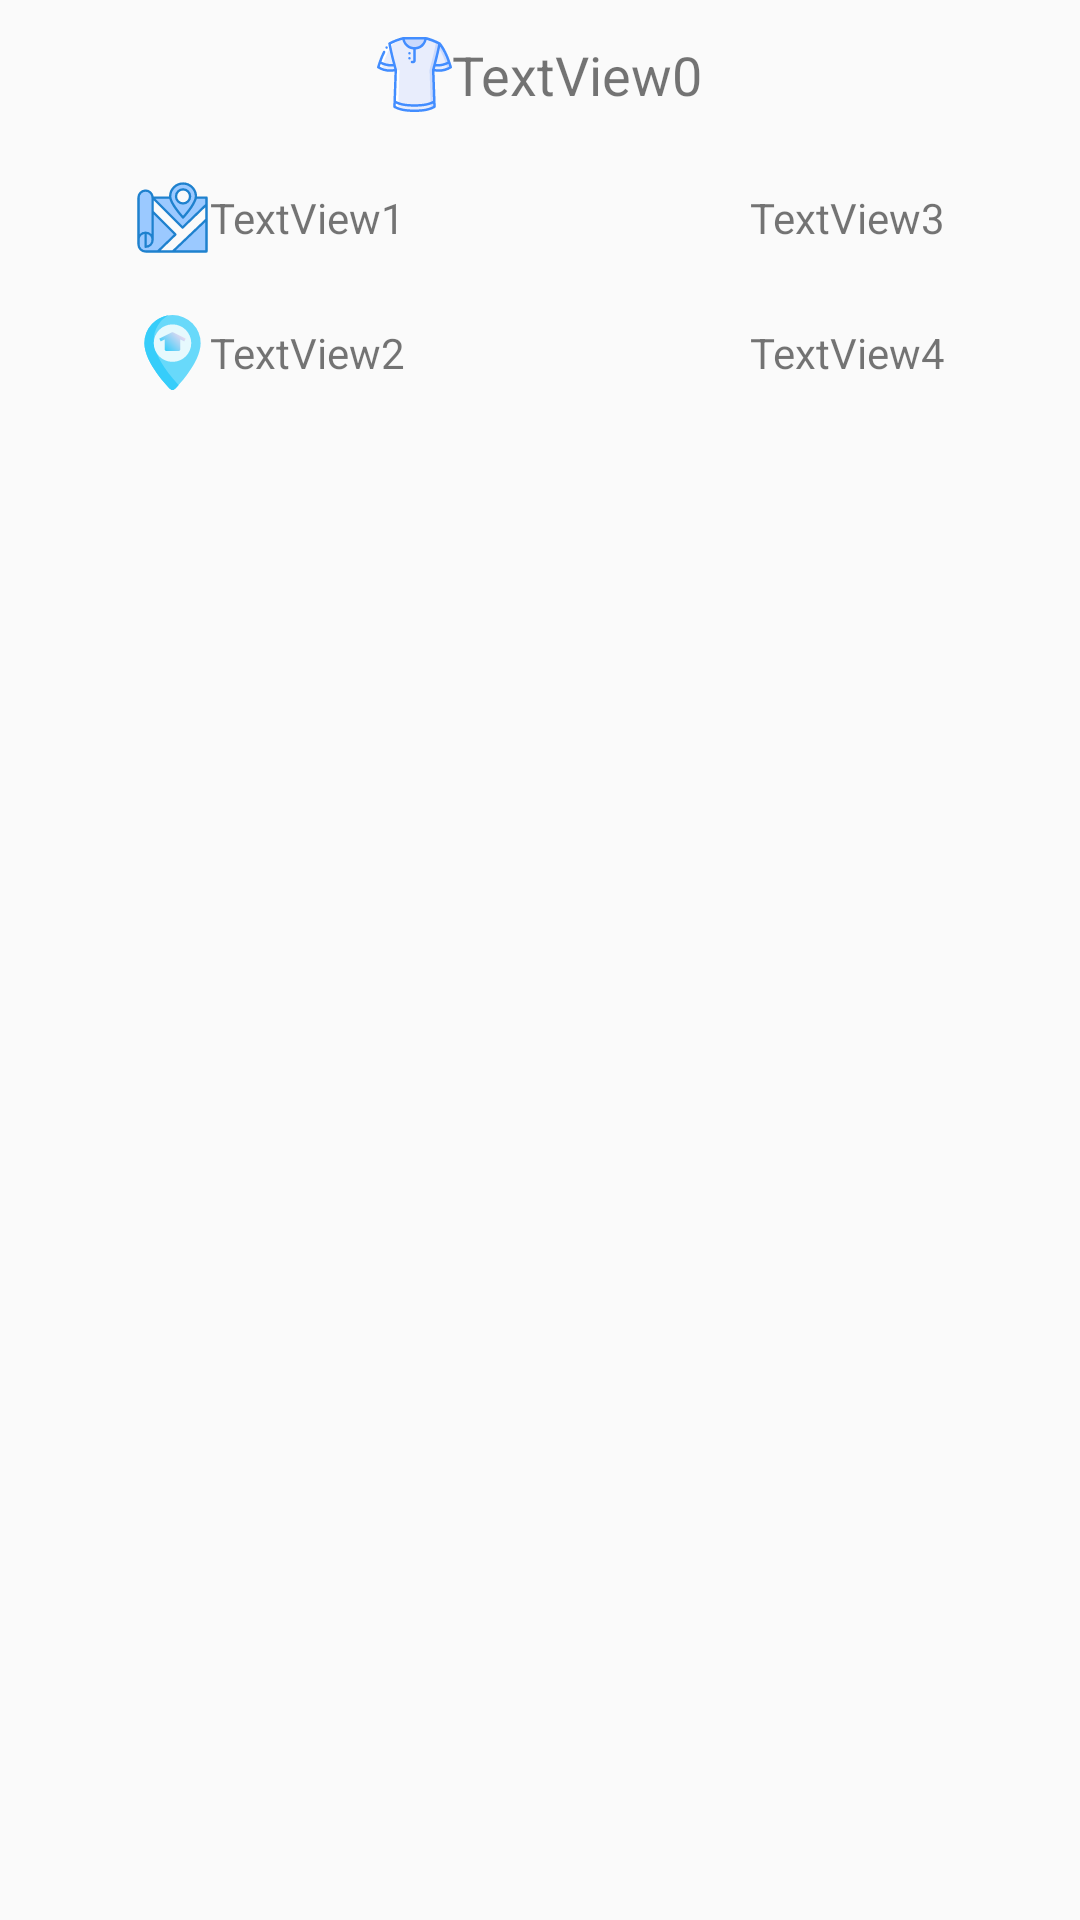

Named icons in this screenshot (1080 x 1920) and their centers, [x,y]:
address: [172,352]
map: [172,217]
shirt: [414,74]
